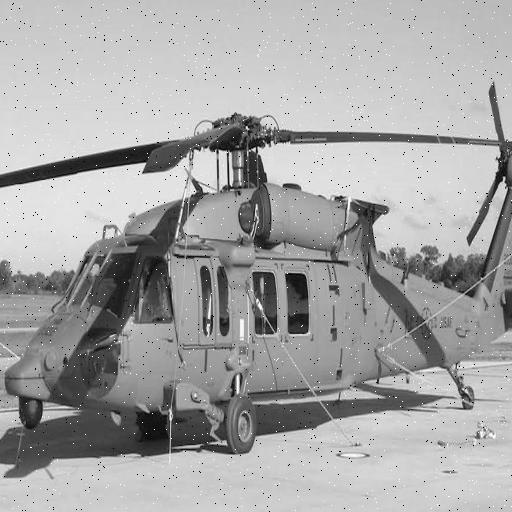helicopter: (3, 71, 512, 464)
